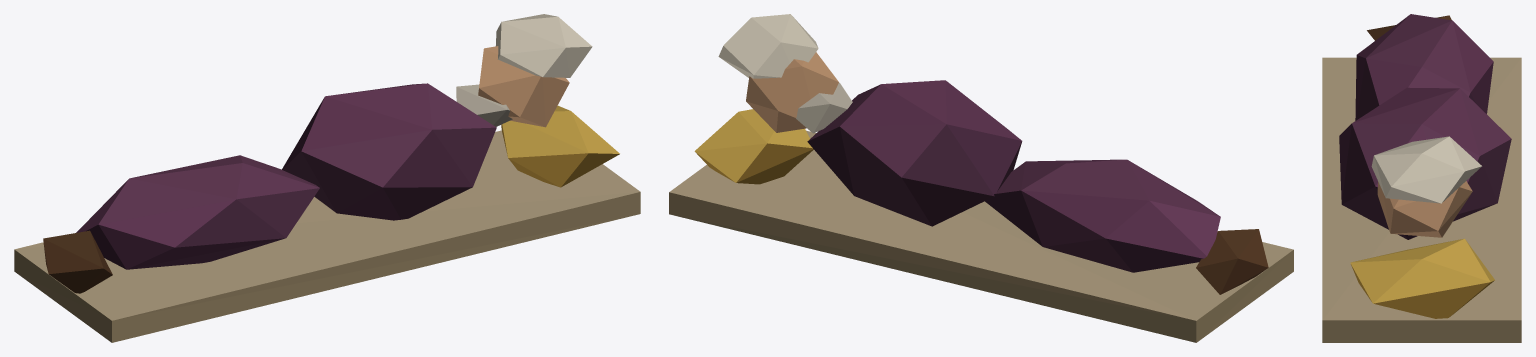
File: restboaz.glb
3 renders of one model, left to right at view 1: azimuth 30°, elevation 25°; view 2: azimuth 150°, elevation 25°; view 3: azimuth 270°, elevation 25°, orthographic. The views are drawn at different scales.
Visible parts, largest first — view 1: base, body_m; view 2: base, body_m; view 3: base, body_m.
Boxes of the visible parts, x1,y1,x2,y2 form: base: [14, 14, 640, 342]; body_m: [76, 83, 496, 269]; base: [669, 14, 1293, 342]; body_m: [807, 80, 1220, 272]; base: [1322, 15, 1521, 342]; body_m: [1339, 14, 1511, 239].
Size of the model in its own units: 0.5222 by 0.1533 by 0.16.
